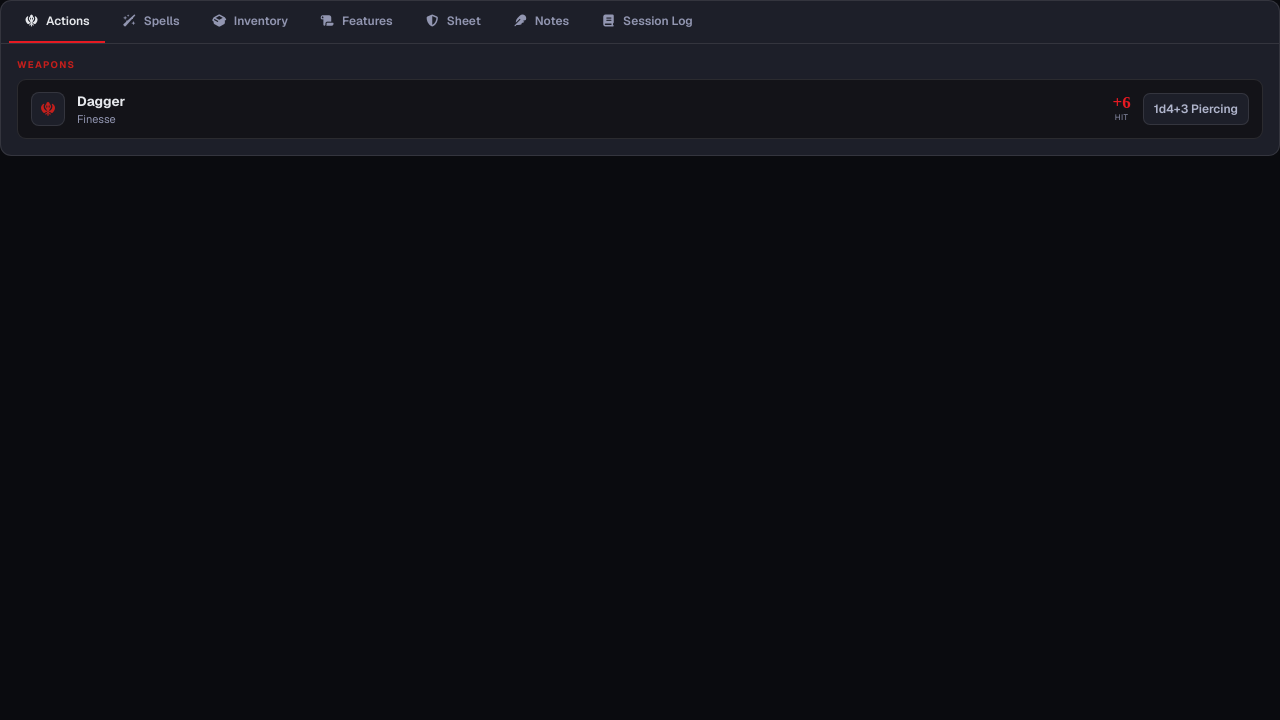
ContentTabs › opens inventory item details with real item metadata
Click the tab "Inventory": (250, 22) [197, 1, 303, 43]
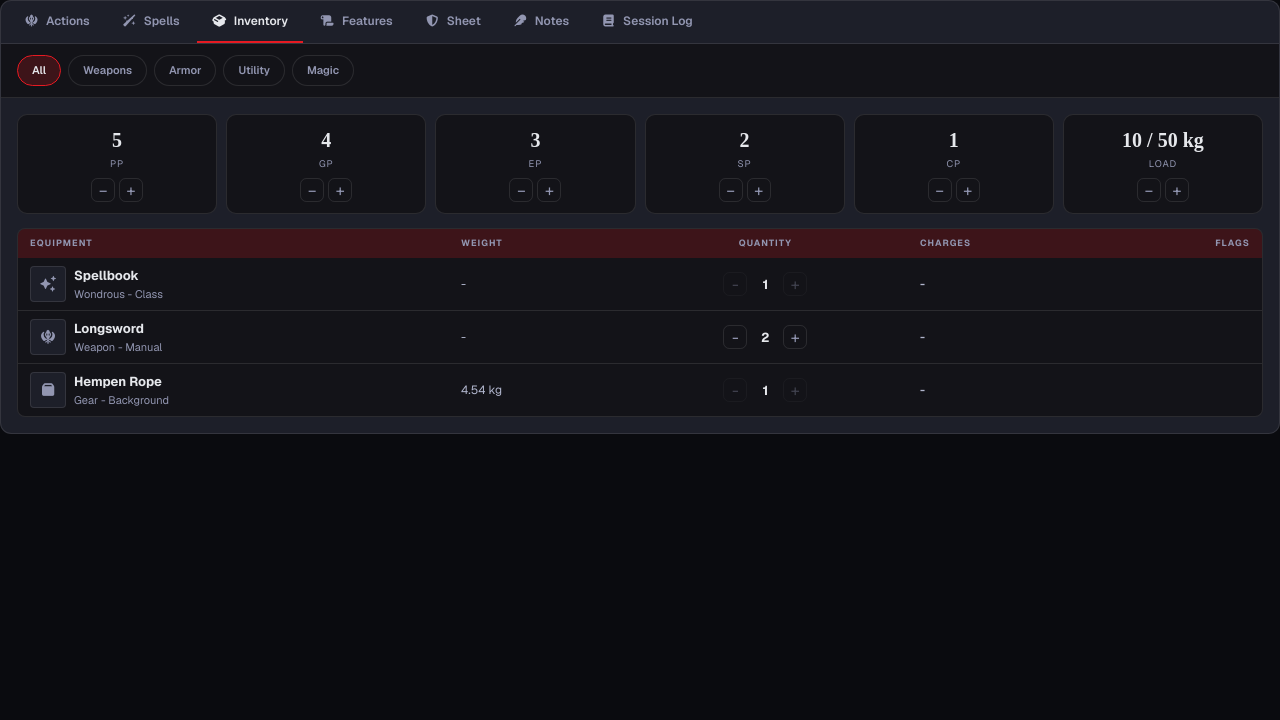
Click the button with aria-label "Open Hempen Rope": (100, 390) [30, 372, 169, 408]
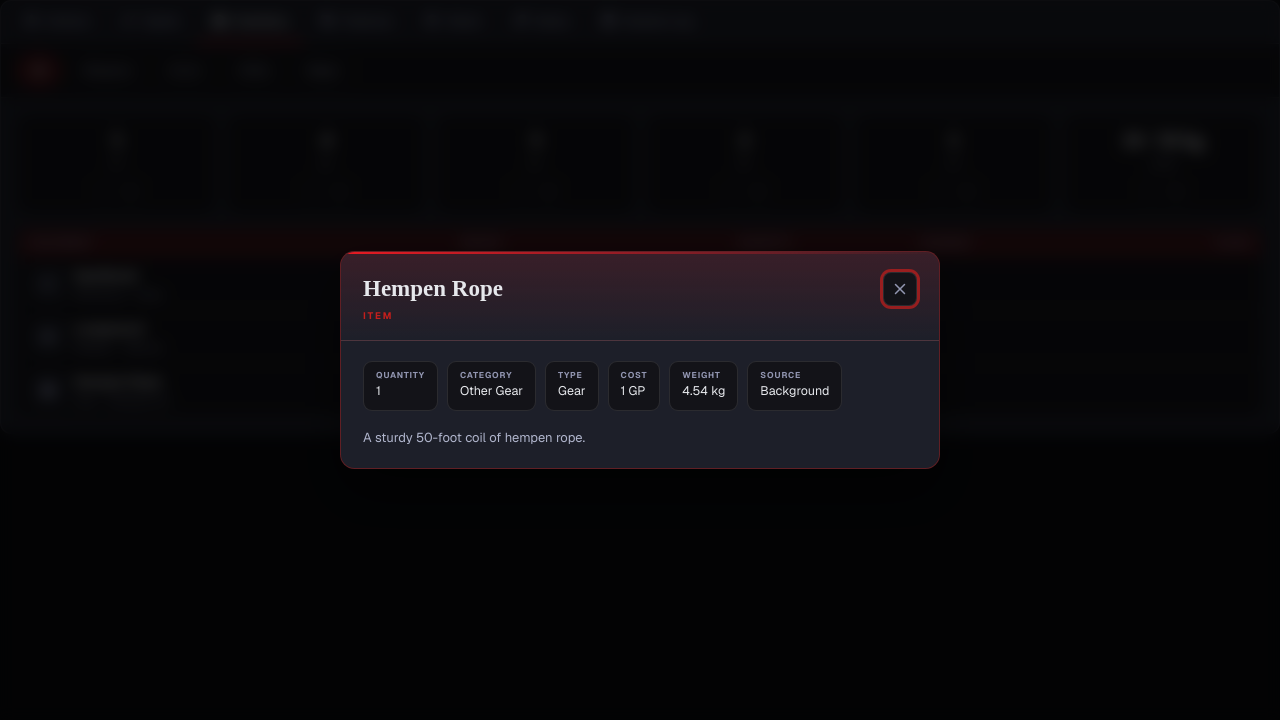
Result: the text "Other Gear" is shown at [460, 382, 523, 401]
Result: the text "Gear" is shown at [558, 382, 586, 401]
Result: the text "1 GP" is shown at [620, 382, 647, 401]
